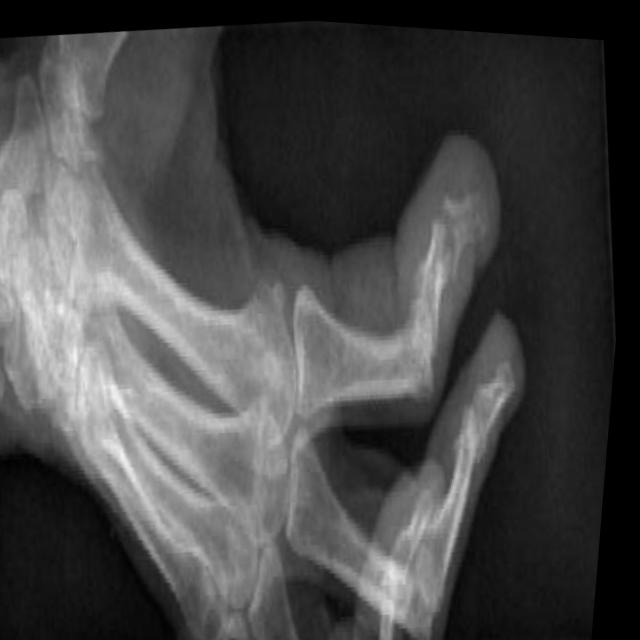fracture: (400, 157, 477, 331)
